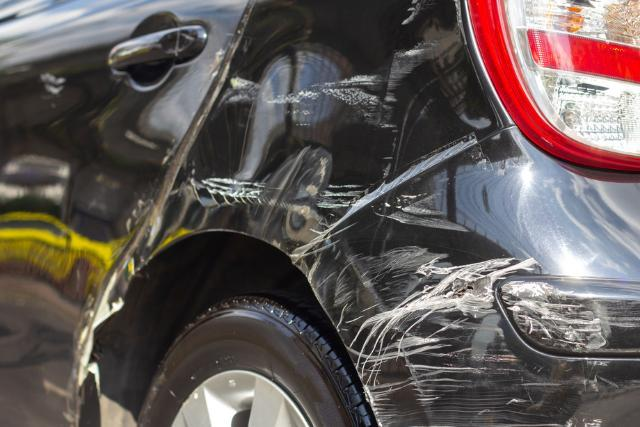Bumper: (308, 151, 640, 427)
Fender: (68, 0, 507, 427)
